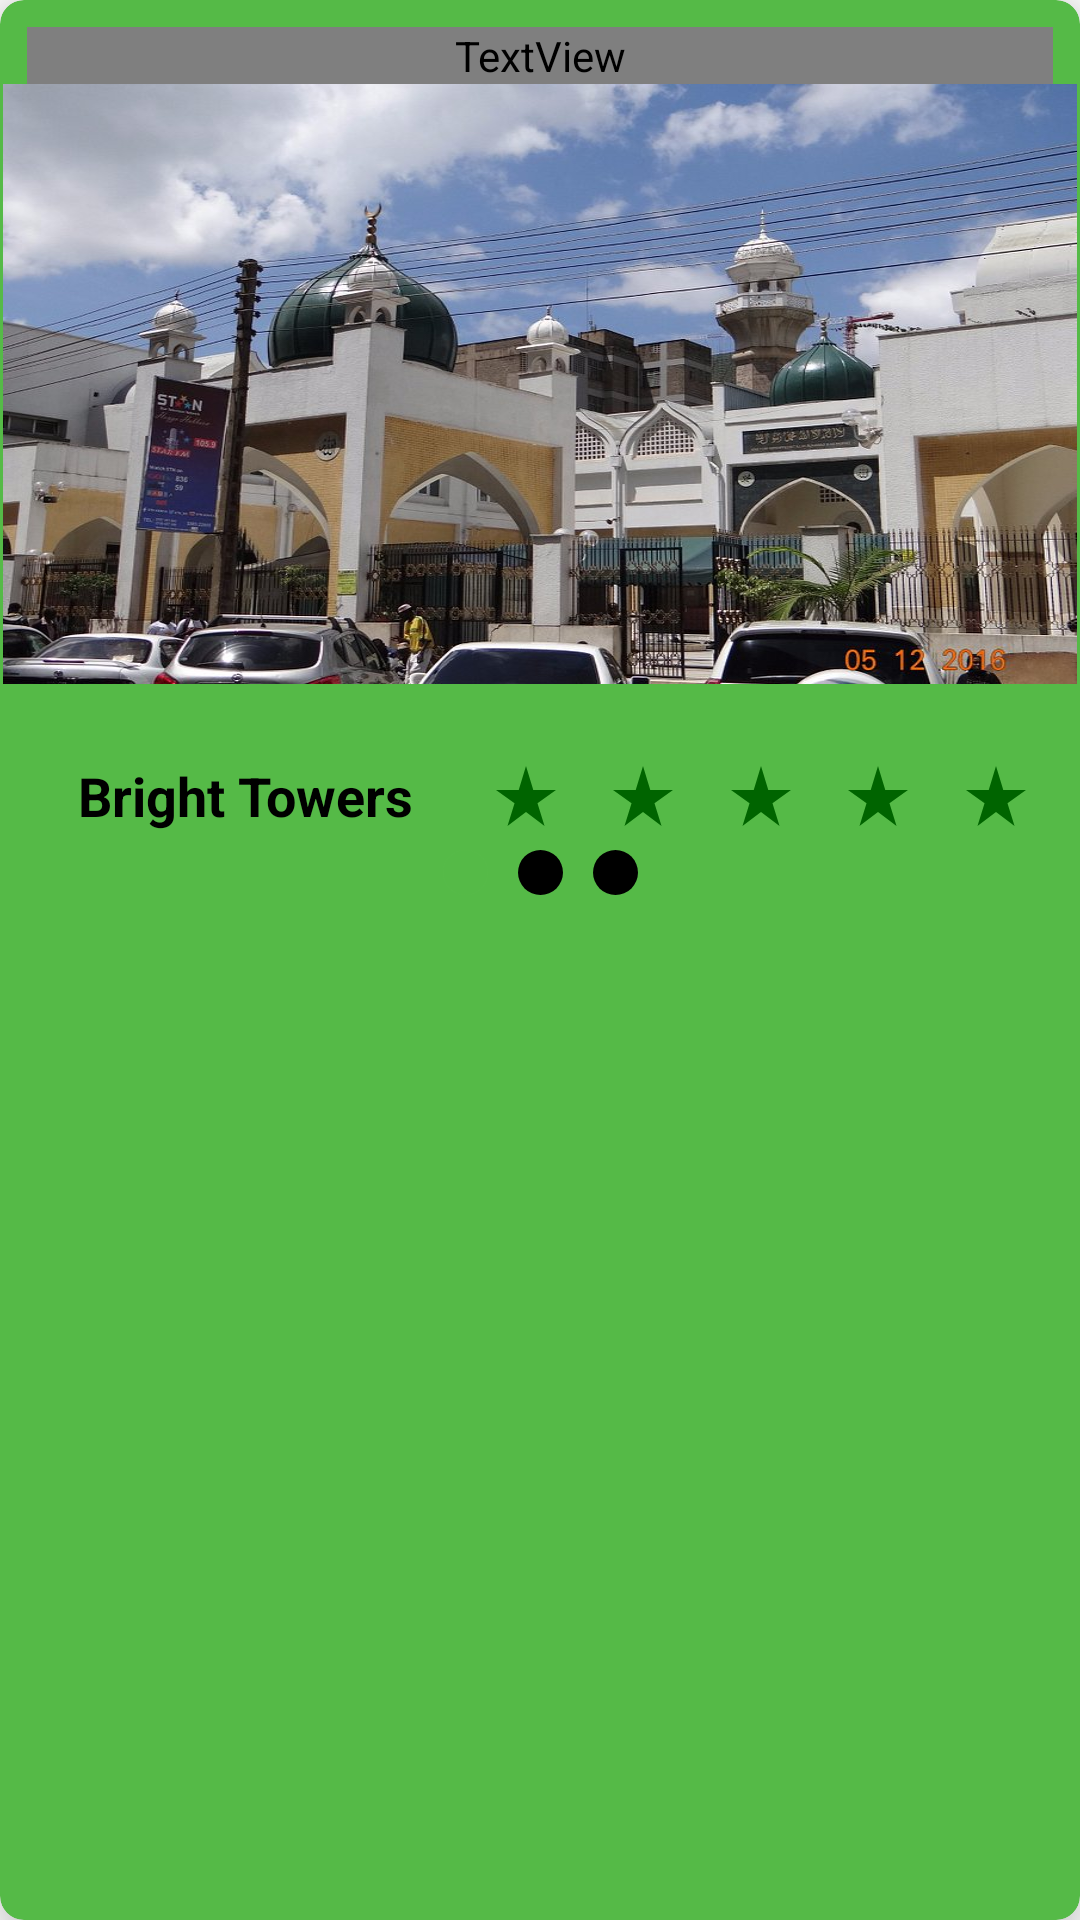

Named icons in this screenshot (1080 × 1920) and their centers, (x=x, y=y):
star: (x=526, y=796), (x=643, y=796), (x=761, y=796), (x=878, y=796), (x=996, y=796)
